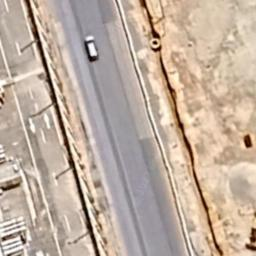van: (84, 34, 100, 62)
